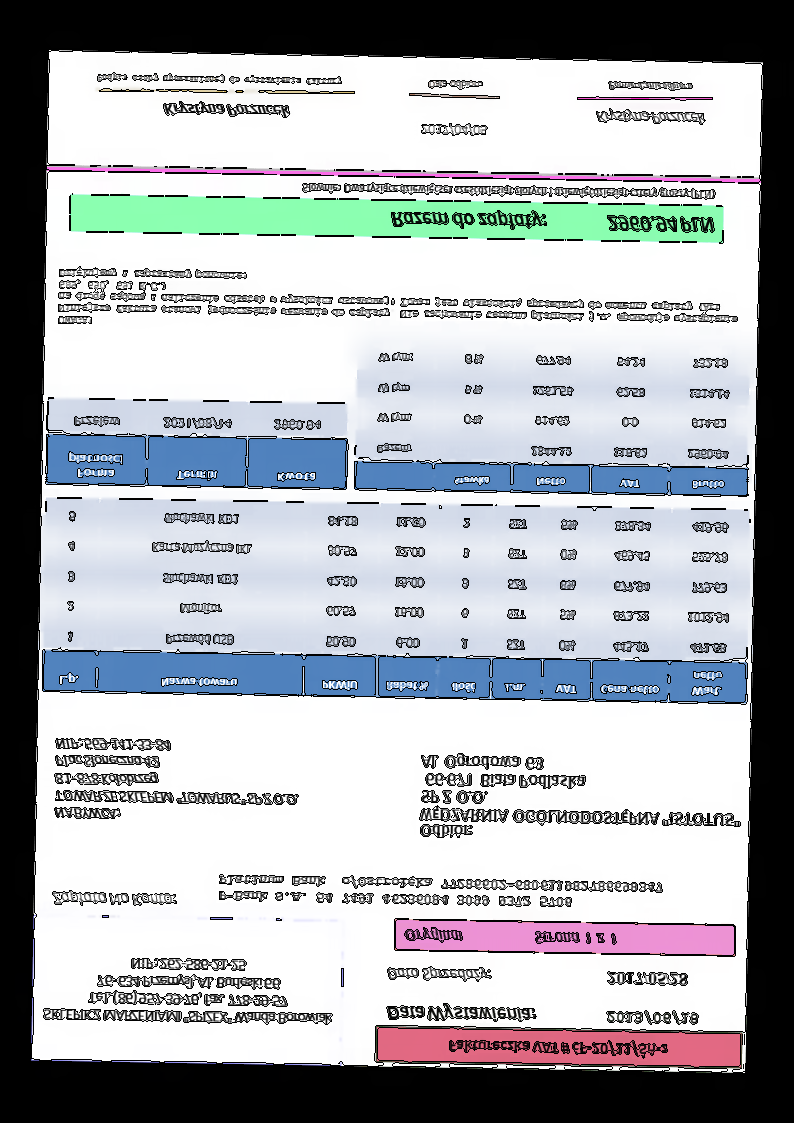Table: (41, 495, 752, 704), (353, 338, 753, 497), (44, 396, 348, 490)
TextBox: (55, 263, 740, 338), (418, 750, 744, 844), (50, 734, 304, 825), (41, 953, 334, 1031), (215, 869, 667, 912), (300, 179, 717, 203), (388, 208, 716, 235), (447, 1036, 670, 1059), (95, 69, 343, 89), (405, 927, 621, 948), (385, 1001, 539, 1025), (49, 887, 180, 908), (162, 98, 293, 119), (594, 106, 707, 128), (385, 964, 493, 983), (605, 1007, 700, 1027), (418, 119, 489, 141), (607, 969, 688, 987), (607, 79, 695, 93), (427, 77, 486, 93)
